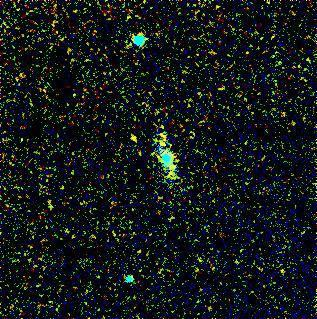star: (118, 123, 148, 153)
